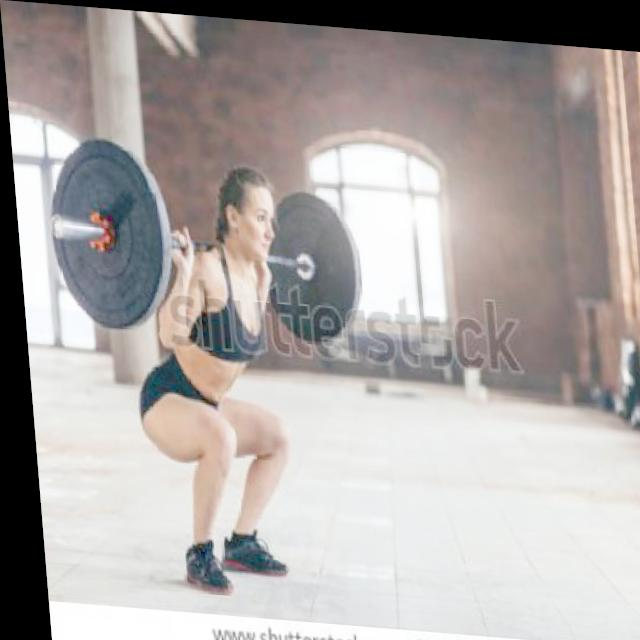barbell: (39, 131, 170, 334)
